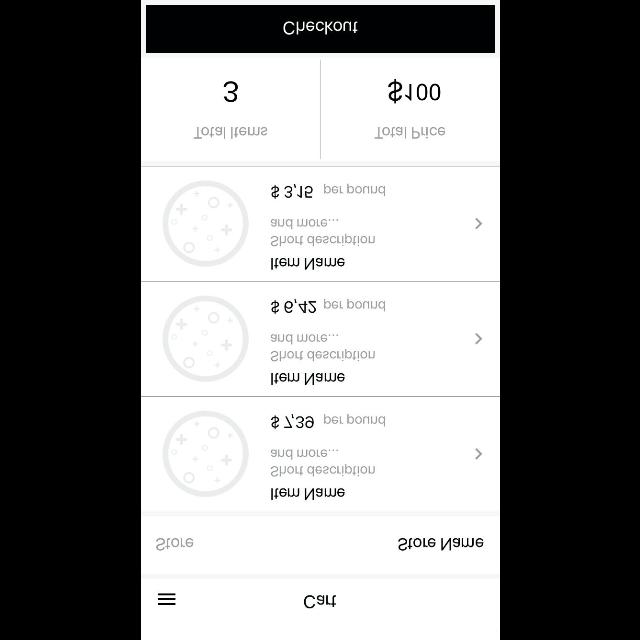icon: (157, 593, 175, 605), (473, 332, 483, 348), (473, 216, 483, 232), (473, 447, 482, 461)
image: (162, 410, 248, 498), (162, 295, 248, 381), (162, 180, 248, 266)
text: (270, 449, 376, 477), (269, 334, 375, 362), (270, 218, 374, 246), (388, 78, 440, 104), (397, 537, 483, 551), (270, 372, 346, 386), (193, 126, 267, 140), (374, 126, 446, 140), (270, 488, 346, 500), (271, 258, 345, 270), (323, 414, 385, 426), (323, 299, 385, 311), (323, 184, 385, 196), (270, 298, 316, 314), (270, 414, 314, 428), (271, 184, 313, 198), (155, 538, 193, 550), (304, 594, 336, 608), (222, 81, 238, 102)
textbutton: (145, 5, 495, 53)
